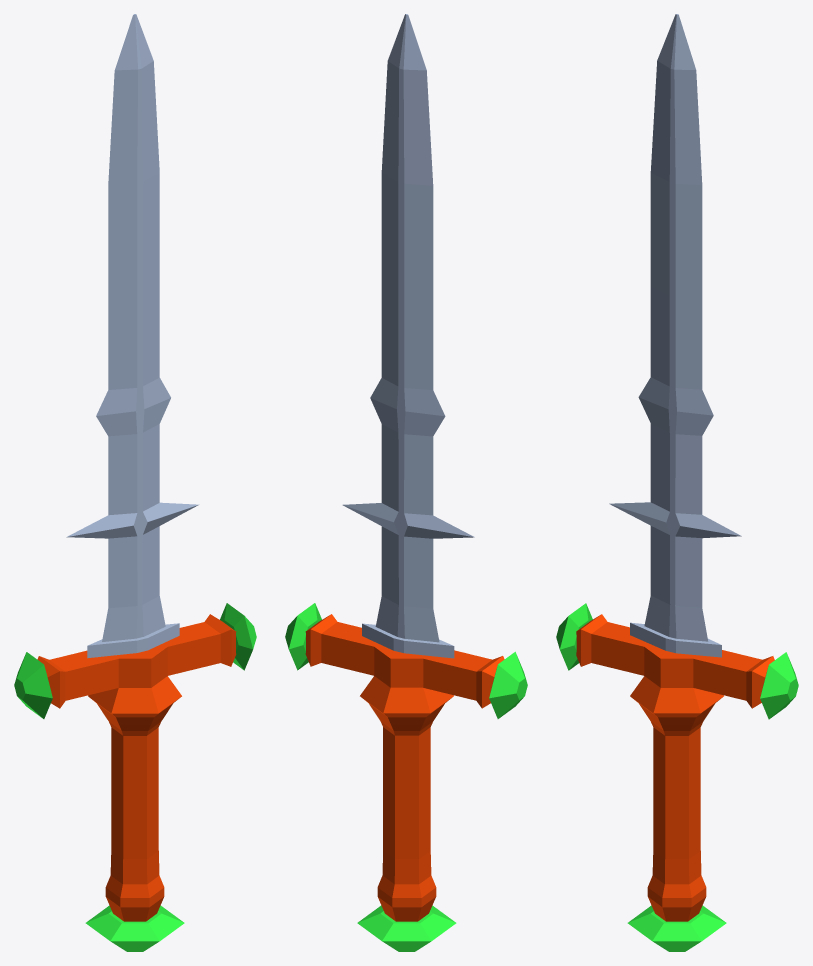
File: Espada_PrincessLara.fbx
The picture shows the model from 3 angles, left to right: view 1: azimuth 30°, elevation 25°; view 2: azimuth 150°, elevation 25°; view 3: azimuth 330°, elevation 25°; orthographic projection.
Visible parts, largest first — view 1: Espada; view 2: Espada; view 3: Espada.
Part boxes in pixels (left/top/right/bottom): Espada: left=14, top=14, right=256, bottom=951; Espada: left=285, top=14, right=527, bottom=951; Espada: left=556, top=14, right=798, bottom=951.
Size of the model in its own units: 46.53 by 179 by 17.33.
